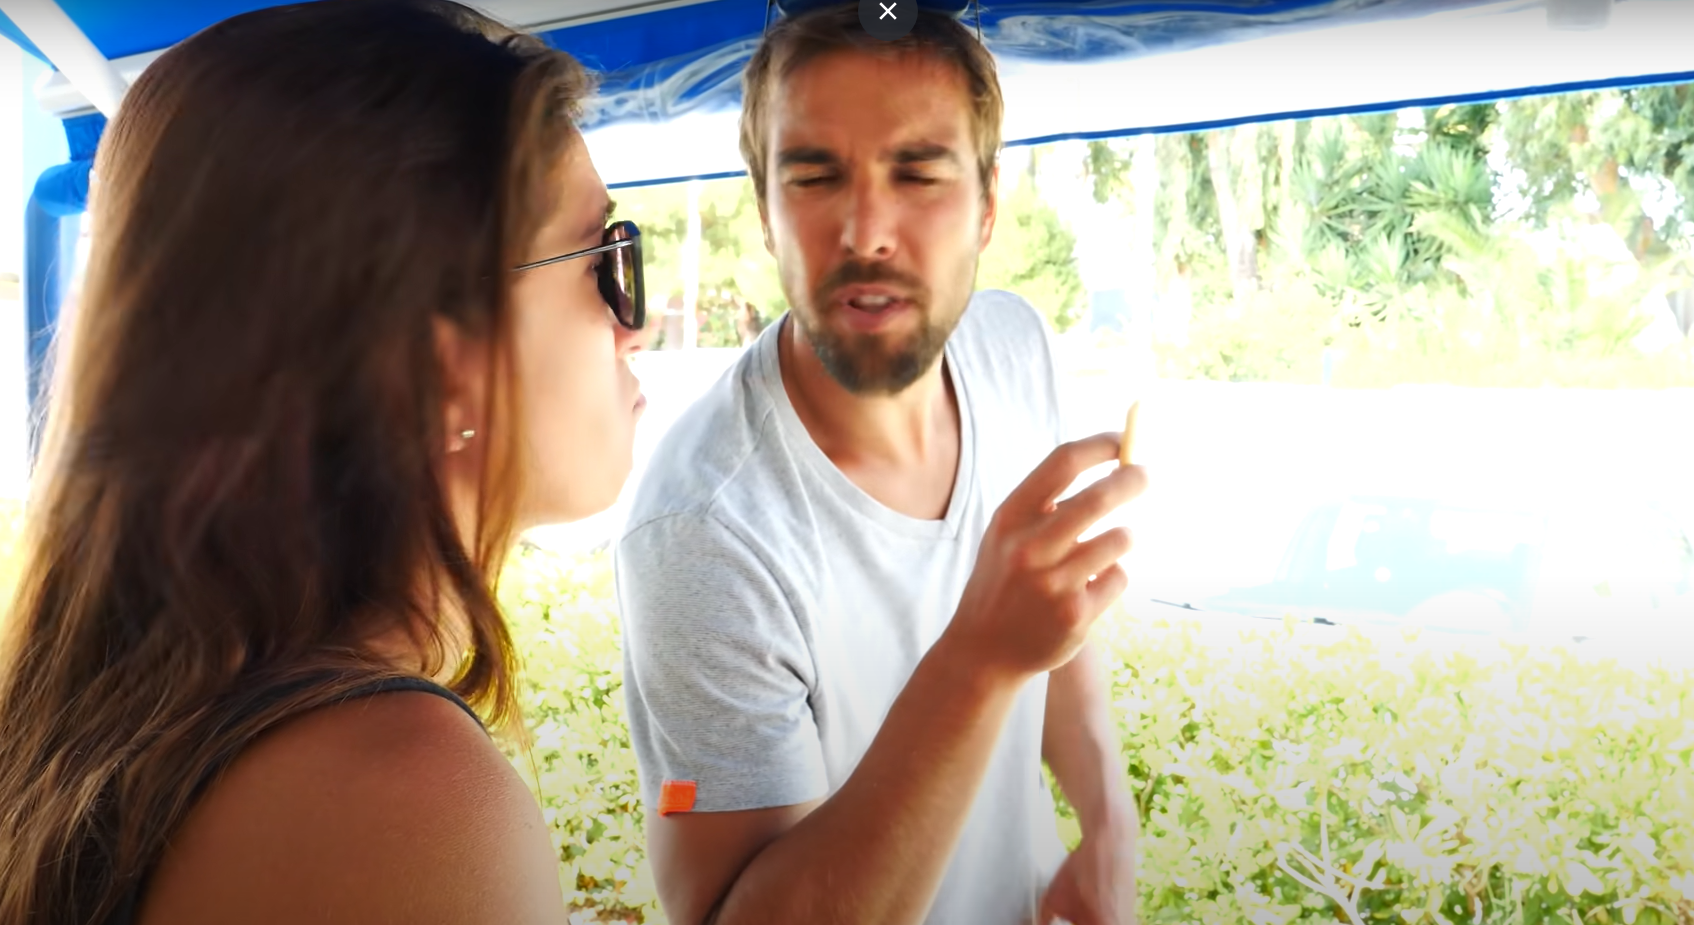without_mask: (470, 181, 638, 464), (787, 130, 950, 322)
